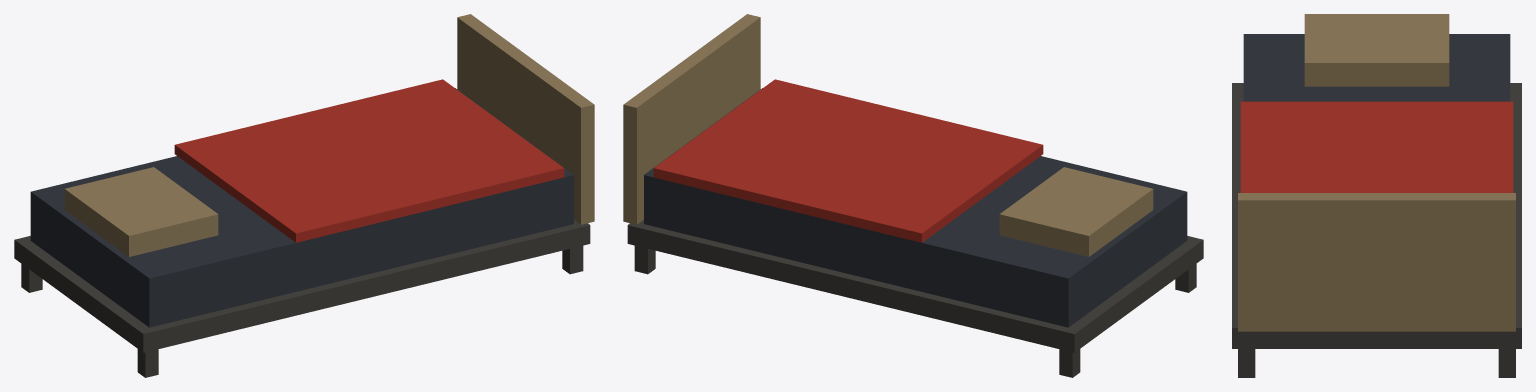
File: separatist_bunk.glb
3 views of the same model, side by side, from view 1: azimuth 30°, elevation 25°; view 2: azimuth 150°, elevation 25°; view 3: azimuth 270°, elevation 25° (orthographic). The views are drawn at different scales.
Parts seen in each view (by area): view 1: separatist_bunk; view 2: separatist_bunk; view 3: separatist_bunk.
Boxes of the visible parts, bbox=[...] form: separatist_bunk: bbox=[14, 14, 594, 377]; separatist_bunk: bbox=[623, 14, 1203, 377]; separatist_bunk: bbox=[1232, 14, 1521, 377].
Size of the model in its own units: 2.03 by 0.7 by 1.
